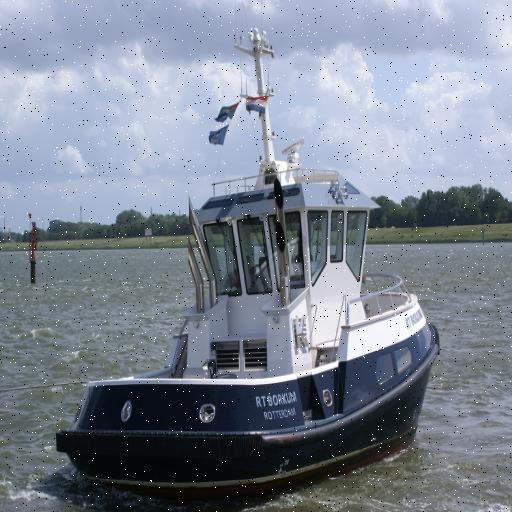tugboat: (51, 22, 445, 512)
